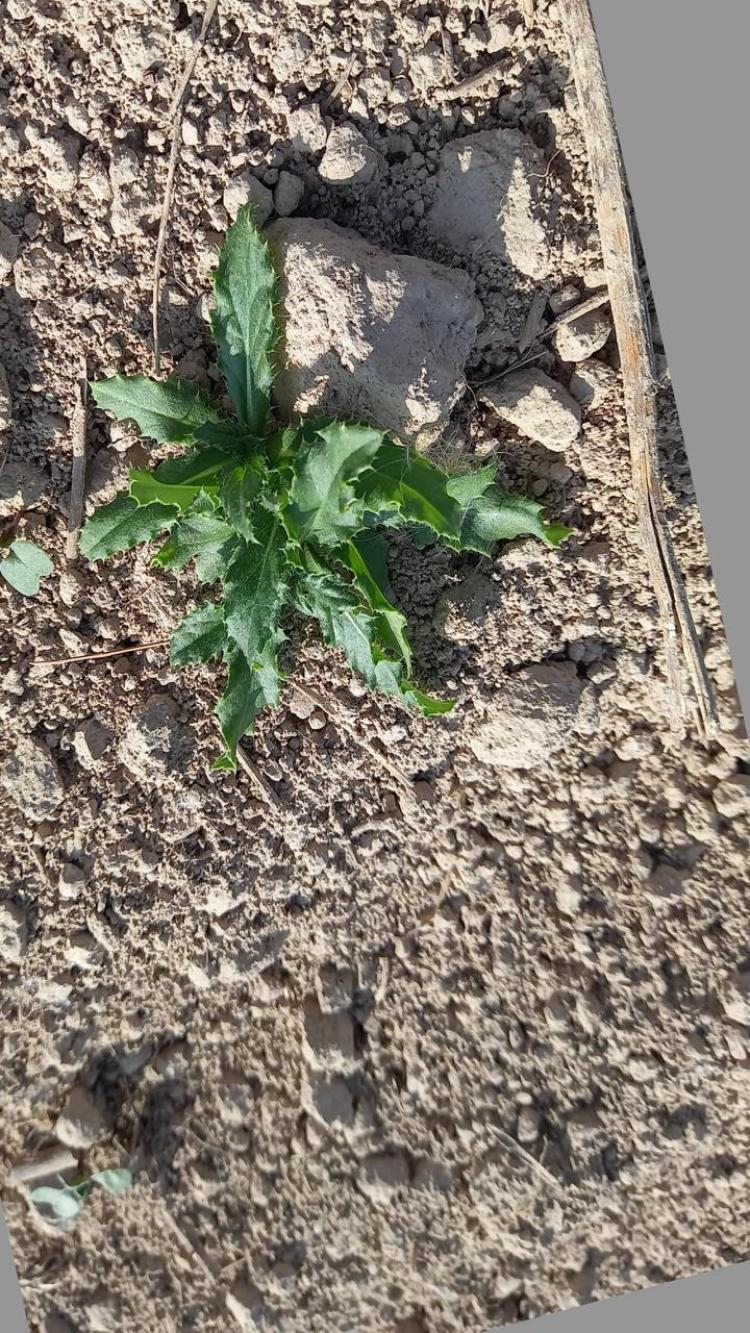bodyak: (77, 200, 579, 735)
